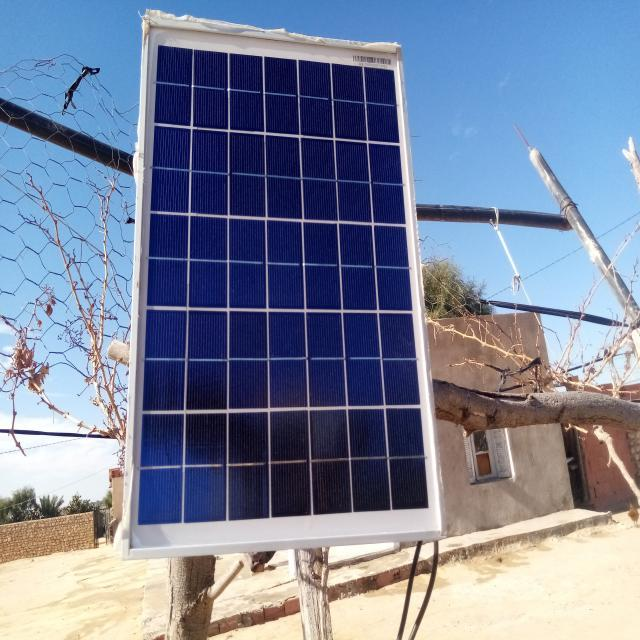no faulty: (126, 23, 443, 552)
